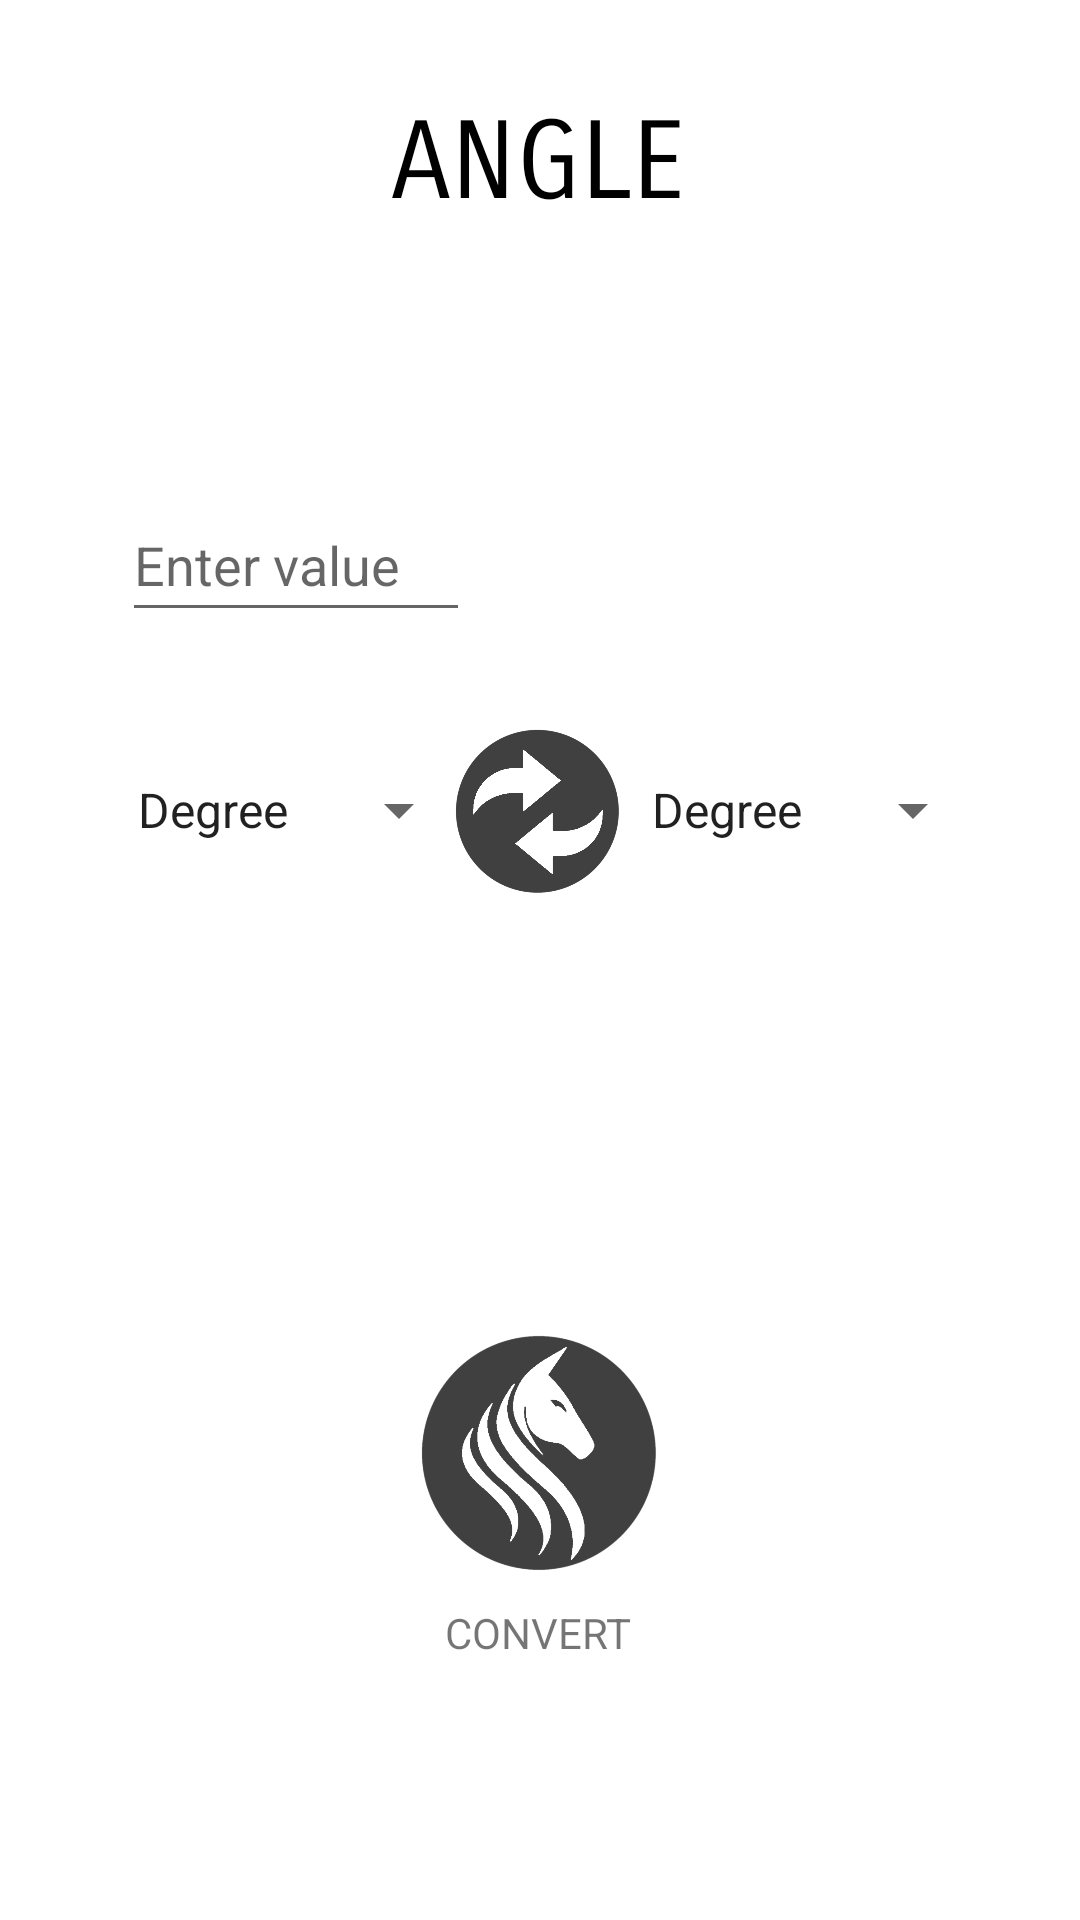

Screen size 1080 x 1920. Icon name, then its box in pixels as (x1, y1, x2, y2):
swap: (456, 730, 619, 893)
unicon: (422, 1336, 656, 1570)
